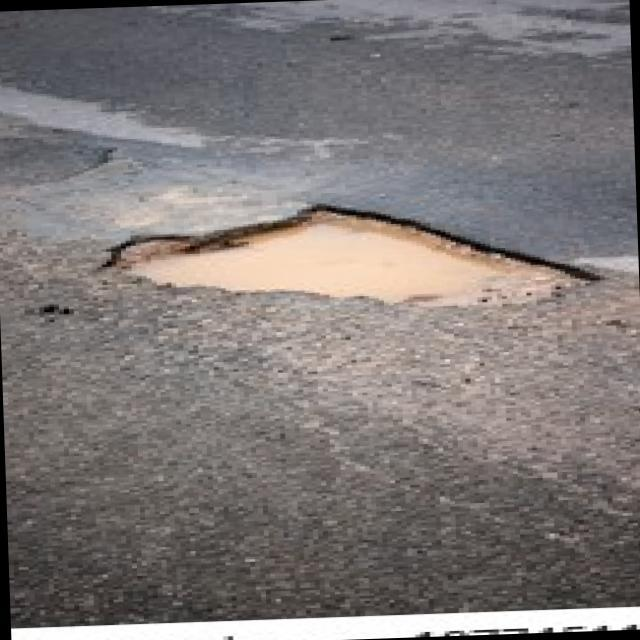Pothole: (94, 194, 600, 326)
